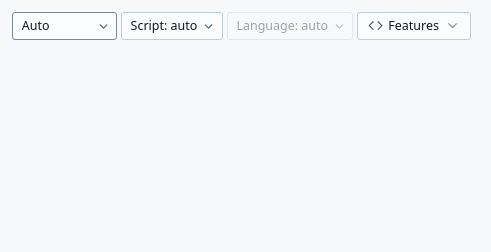
Scenario: the features panel › starts each switch where a text renderer would leave it
Click the button "Features": (414, 26) 357,12 -> 471,40
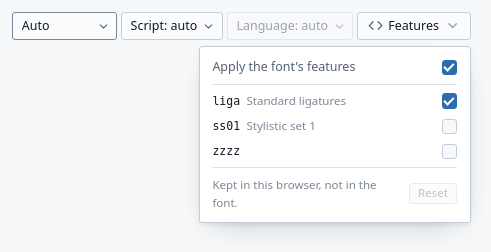
Result: the checkbox labelled "liga" is checked at 442,93 -> 457,109
Result: the checkbox labelled "ss01" is not checked at 442,119 -> 457,134
